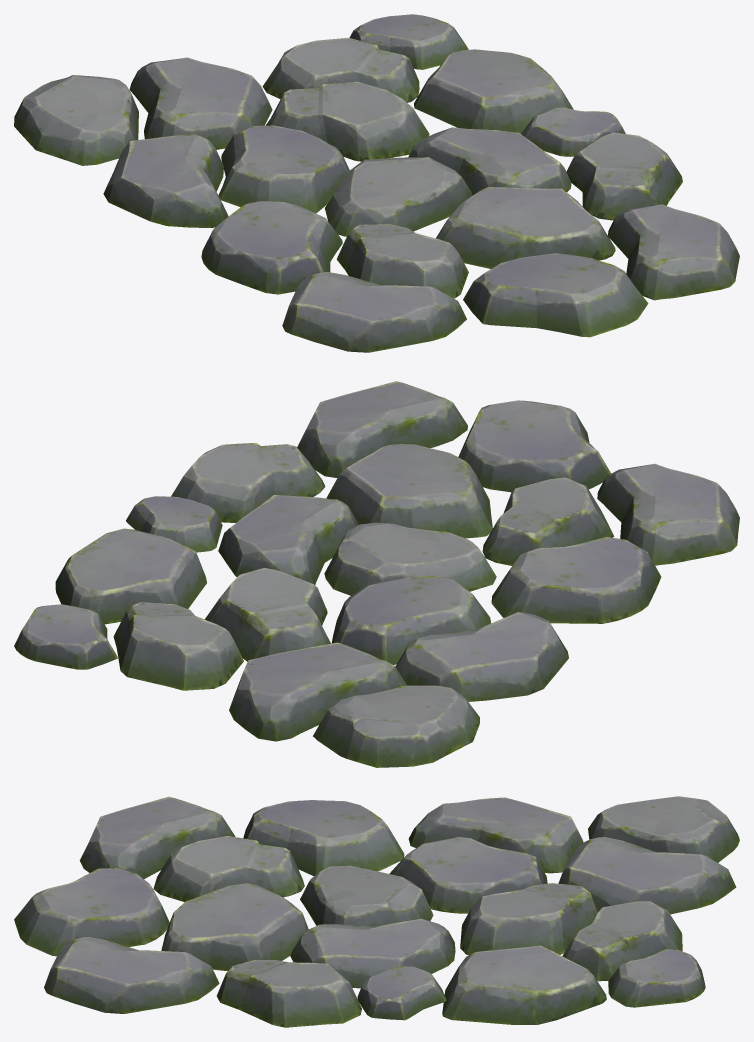
File: rock-path-round-thin-transformed.glb
The picture shows the model from 3 angles, top to bottom: view 1: azimuth 30°, elevation 25°; view 2: azimuth 150°, elevation 25°; view 3: azimuth 270°, elevation 25°; orthographic projection. The views are drawn at different scales.
Visible parts, largest first — view 1: RockPath_Round_Thin; view 2: RockPath_Round_Thin; view 3: RockPath_Round_Thin.
Boxes of the visible parts, x1=… form: RockPath_Round_Thin: x1=14, y1=14, x2=739, y2=352; RockPath_Round_Thin: x1=14, y1=381, x2=739, y2=767; RockPath_Round_Thin: x1=14, y1=796, x2=739, y2=1027.
Size of the model in its own units: 1.46 by 0.1103 by 2.09.
Materials: 1 (1 with a texture image).
